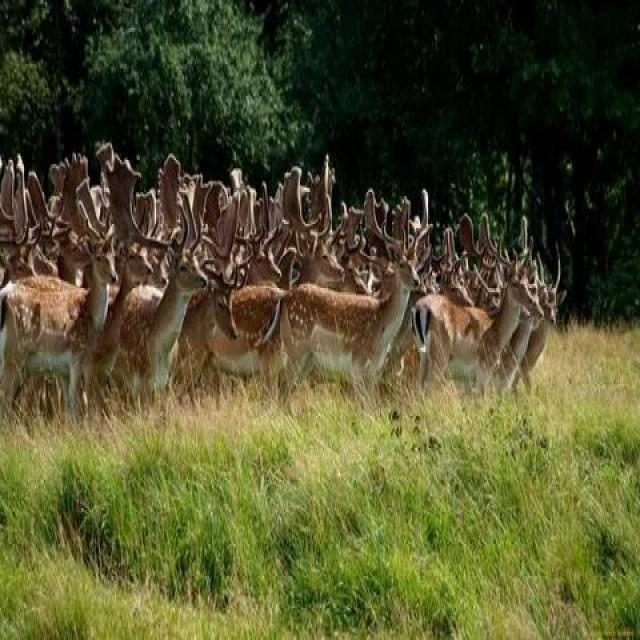deer: (254, 194, 484, 467), (4, 243, 144, 412), (427, 232, 547, 419), (110, 238, 248, 398), (201, 252, 290, 415)
